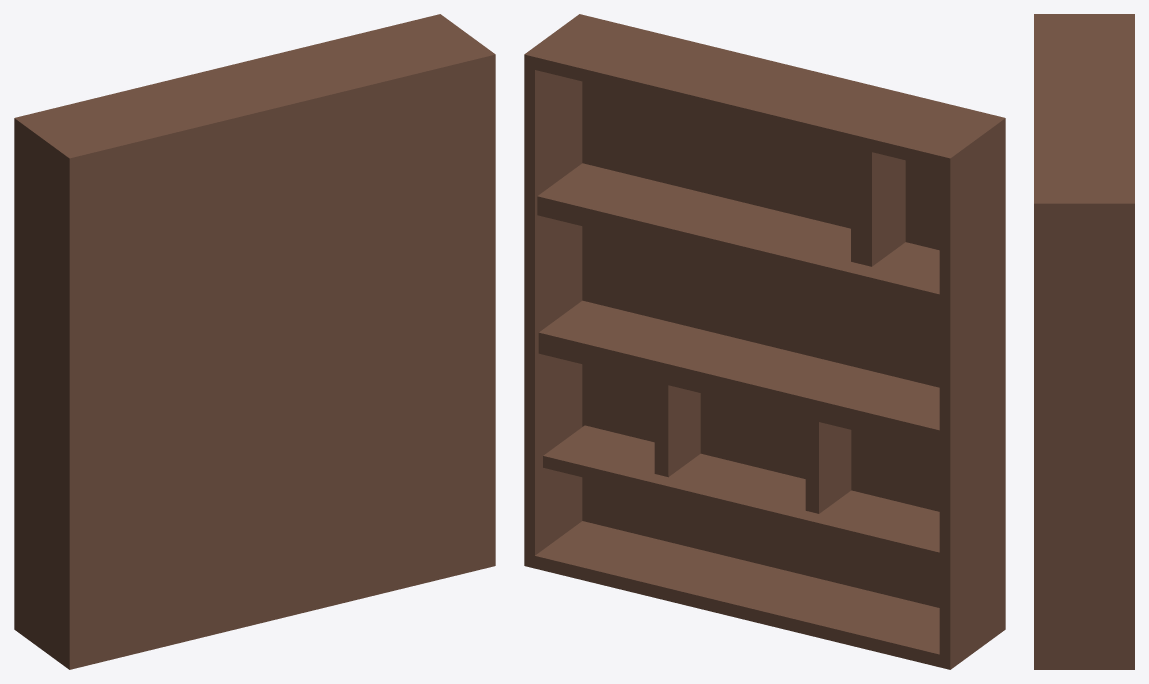
Rendered from KAST DEUR.fbx.
3 views of the same model, side by side, from view 1: azimuth 30°, elevation 25°; view 2: azimuth 150°, elevation 25°; view 3: azimuth 270°, elevation 25° (orthographic). The views are drawn at different scales.
Parts seen in each view (by area): view 1: pCube3; view 2: pCube3; view 3: pCube3.
Part boxes in pixels (box(x1,y1,x2,y2)): pCube3: box(14, 14, 495, 669); pCube3: box(524, 14, 1005, 669); pCube3: box(1034, 14, 1134, 669).
Size of the model in its own units: 6.79 by 7.79 by 1.53.
